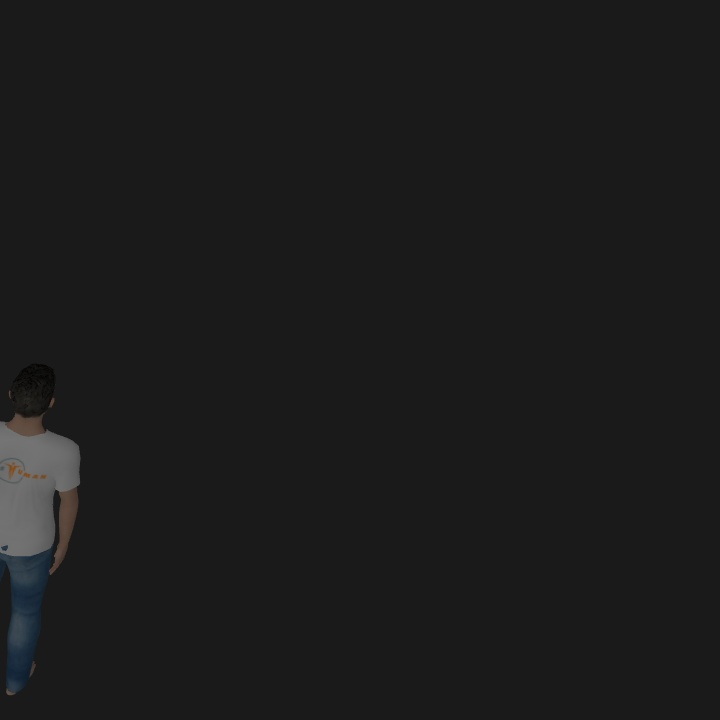victim: (1, 366, 81, 690)
